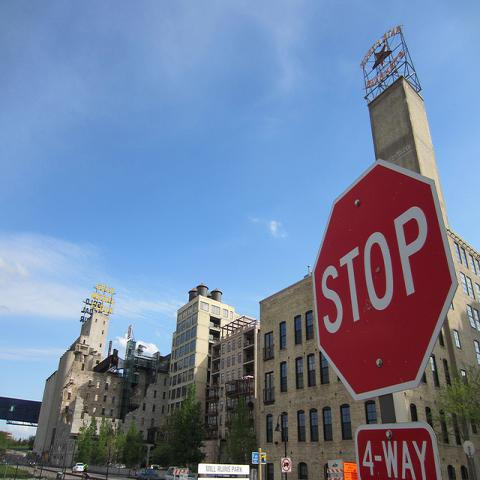car: (135, 467, 166, 479), (165, 466, 184, 479), (72, 463, 84, 473)
